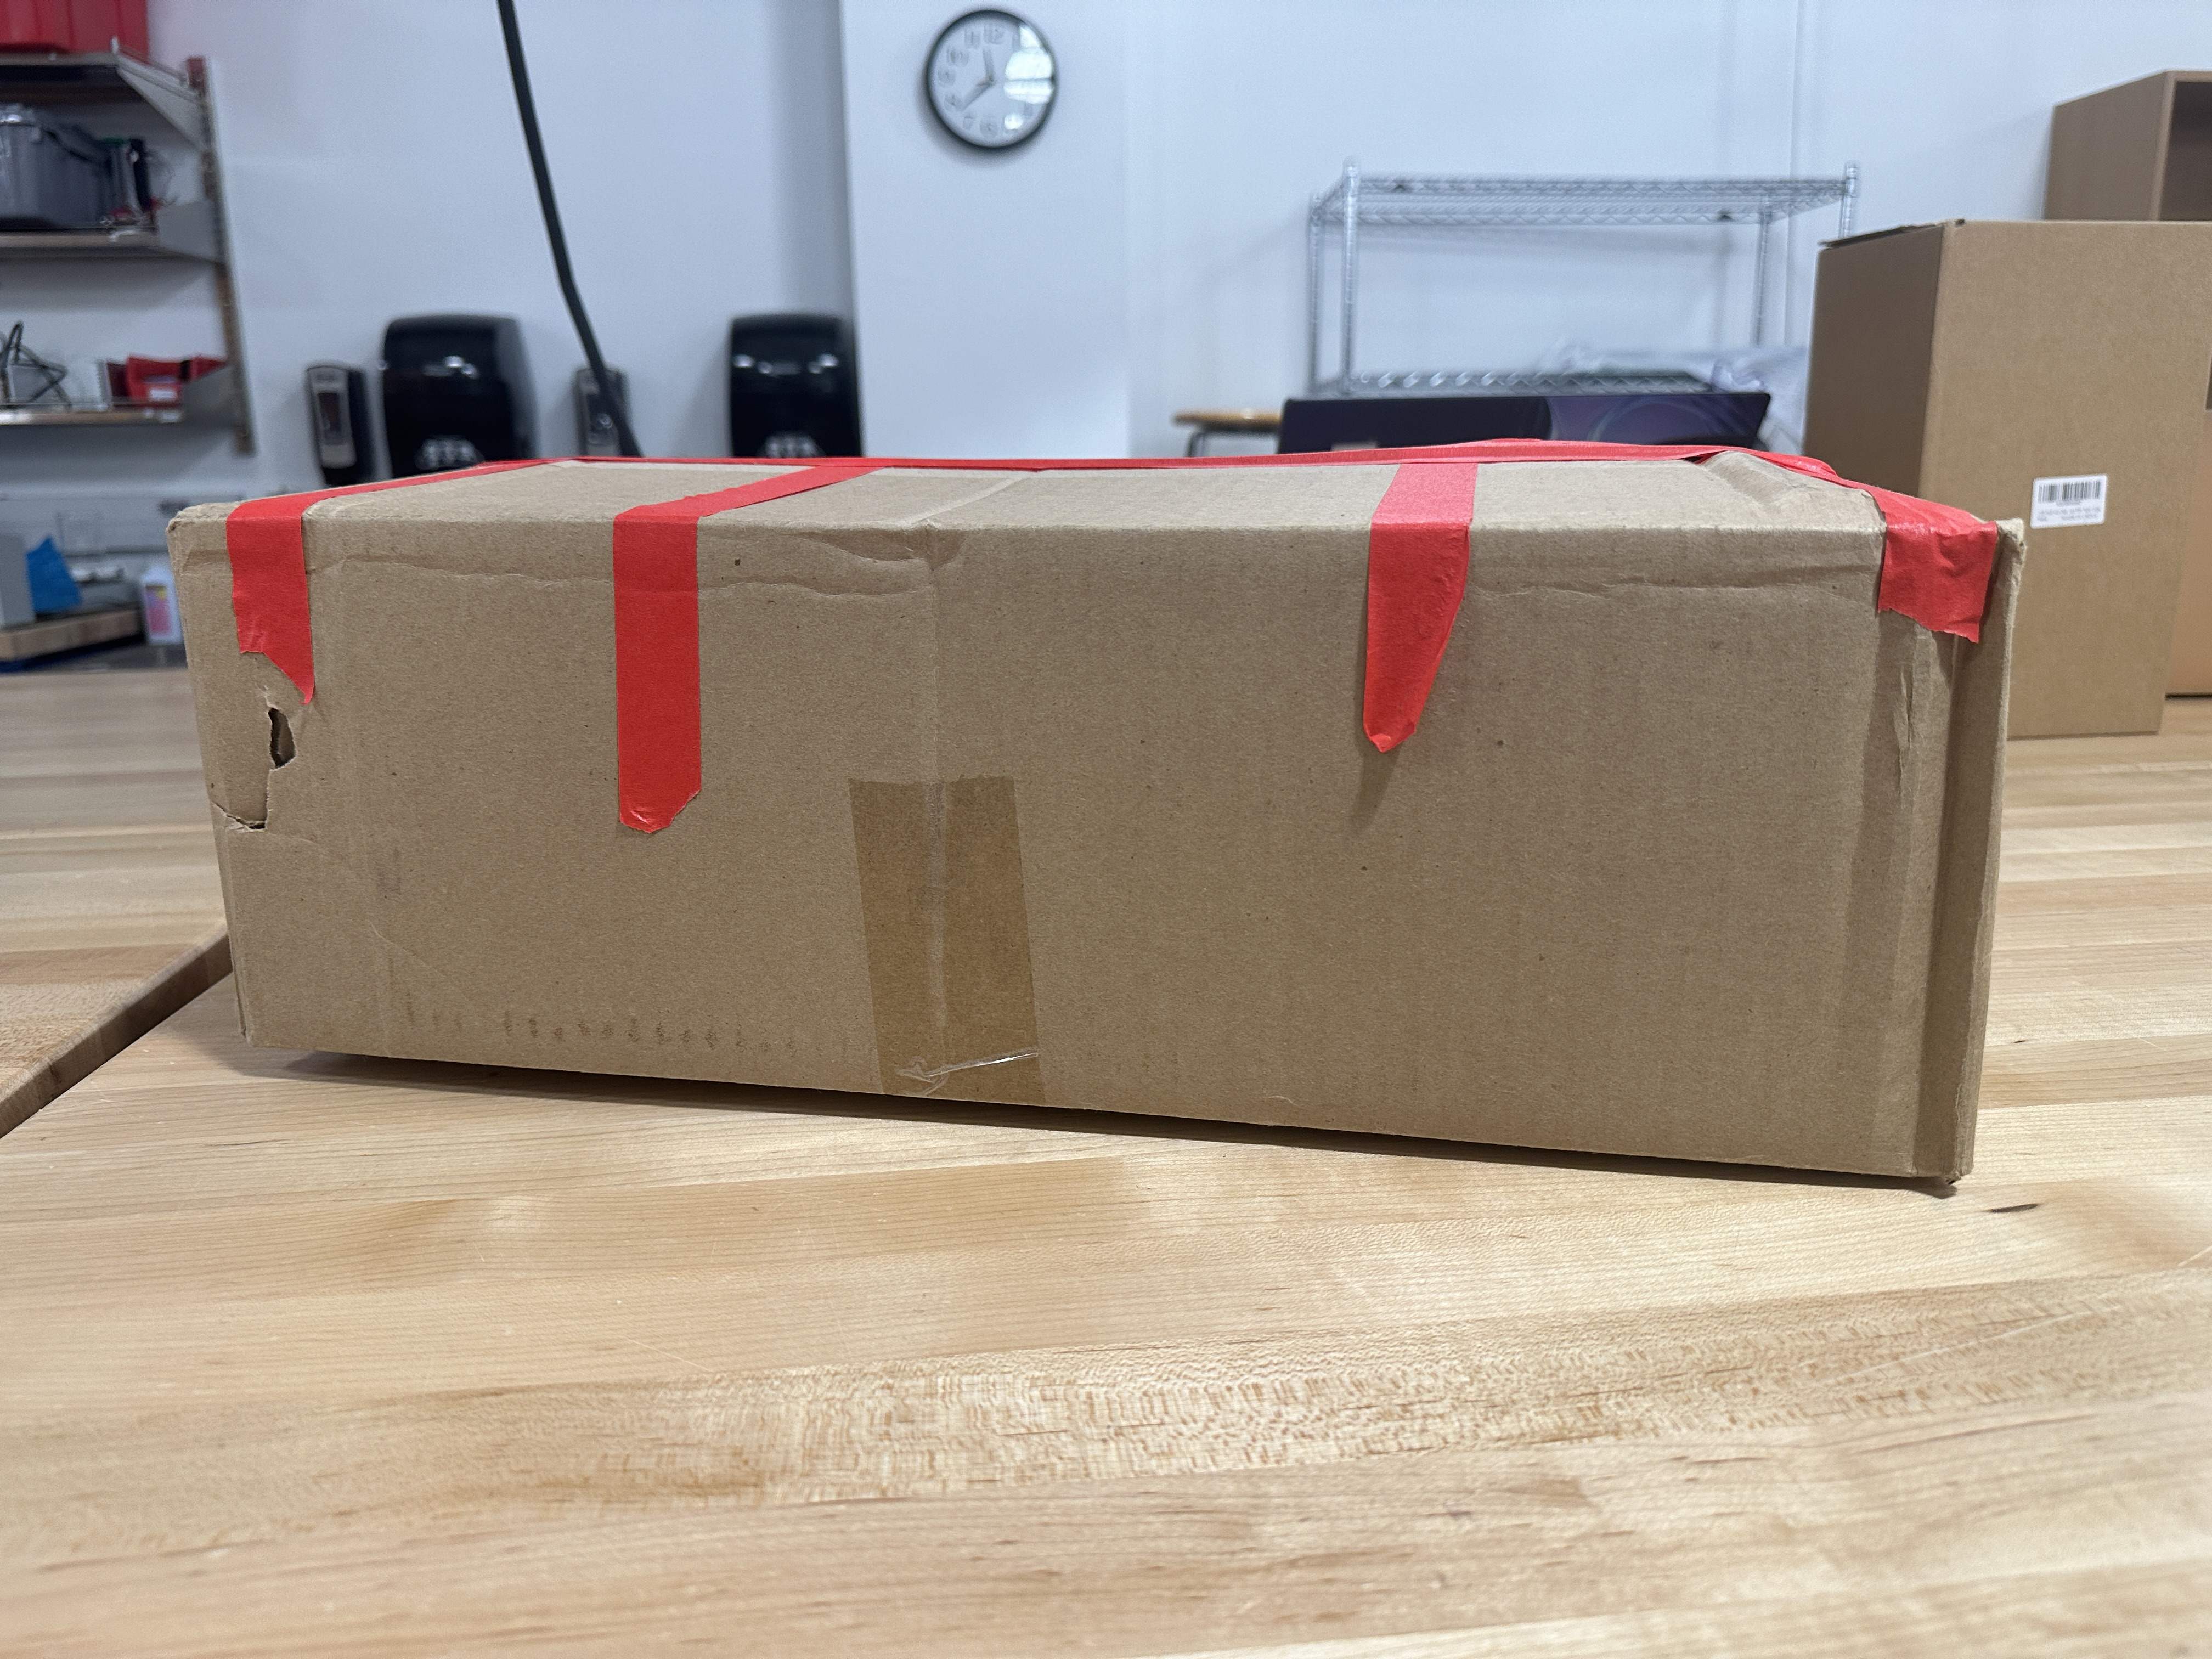Box_Obstacle: (148, 436, 2040, 1202)
